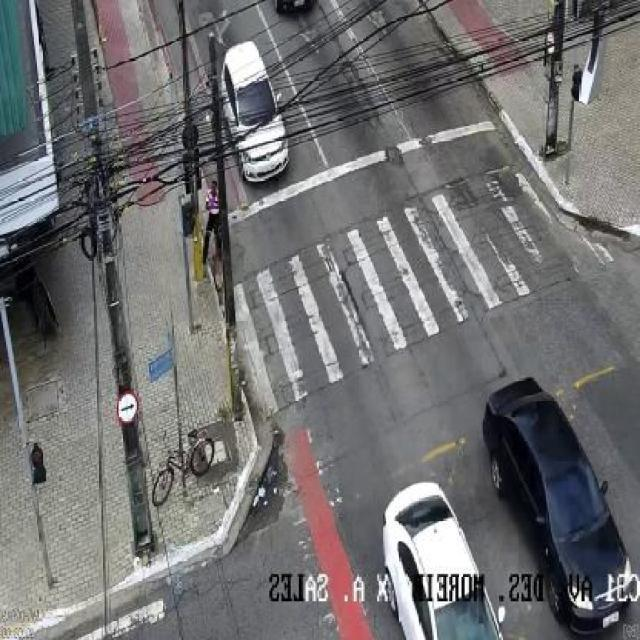Car: (482, 378, 634, 636), (380, 479, 507, 640), (220, 40, 291, 185)
Cycle: (148, 429, 214, 508)
